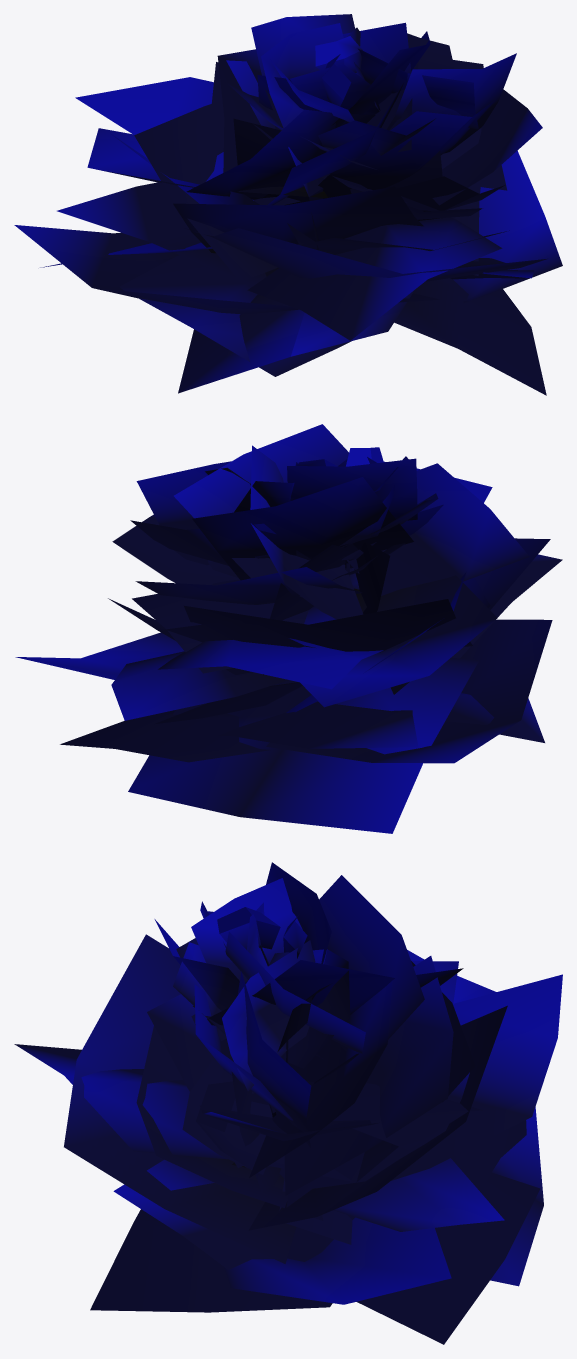
File: SM_Foliage_ShrubA_03.fbx
3 views of the same model, one above another, from view 1: azimuth 30°, elevation 25°; view 2: azimuth 150°, elevation 25°; view 3: azimuth 270°, elevation 25° (orthographic). The views are drawn at different scales.
Parts seen in each view (by area): view 1: SM_Foliage_ShrubA_03; view 2: SM_Foliage_ShrubA_03; view 3: SM_Foliage_ShrubA_03.
Boxes of the visible parts, x1=… form: SM_Foliage_ShrubA_03: x1=14, y1=14, x2=562, y2=395; SM_Foliage_ShrubA_03: x1=15, y1=424, x2=562, y2=833; SM_Foliage_ShrubA_03: x1=14, y1=862, x2=562, y2=1344.
Size of the model in its own units: 398 by 372 by 258.
